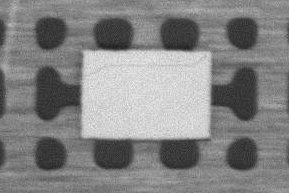DIE_CRACK: (84, 55, 205, 77)
